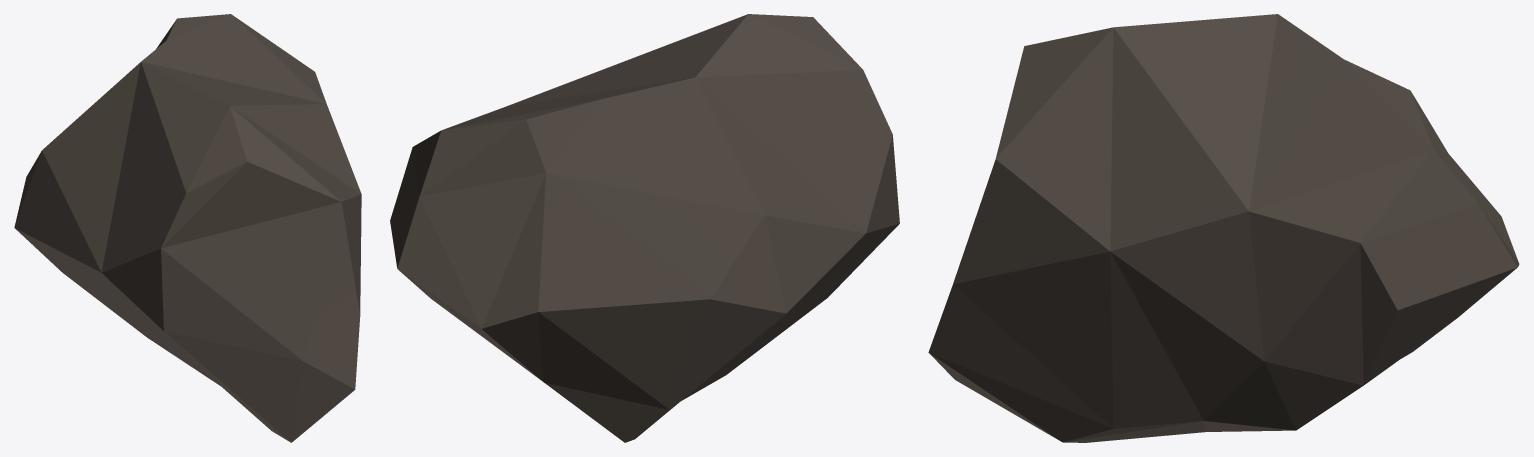
File: RockBeach4.glb
The picture shows the model from 3 angles, left to right: view 1: azimuth 30°, elevation 25°; view 2: azimuth 150°, elevation 25°; view 3: azimuth 270°, elevation 25°; orthographic projection. The views are drawn at different scales.
Parts seen in each view (by area): view 1: RockBeach4; view 2: RockBeach4; view 3: RockBeach4.
Boxes of the visible parts, bbox=[...] form: RockBeach4: bbox=[14, 14, 361, 442]; RockBeach4: bbox=[390, 14, 899, 442]; RockBeach4: bbox=[928, 14, 1519, 442].
Size of the model in its own units: 0.4607 by 0.4545 by 0.612.
1 material, 1 textured.
